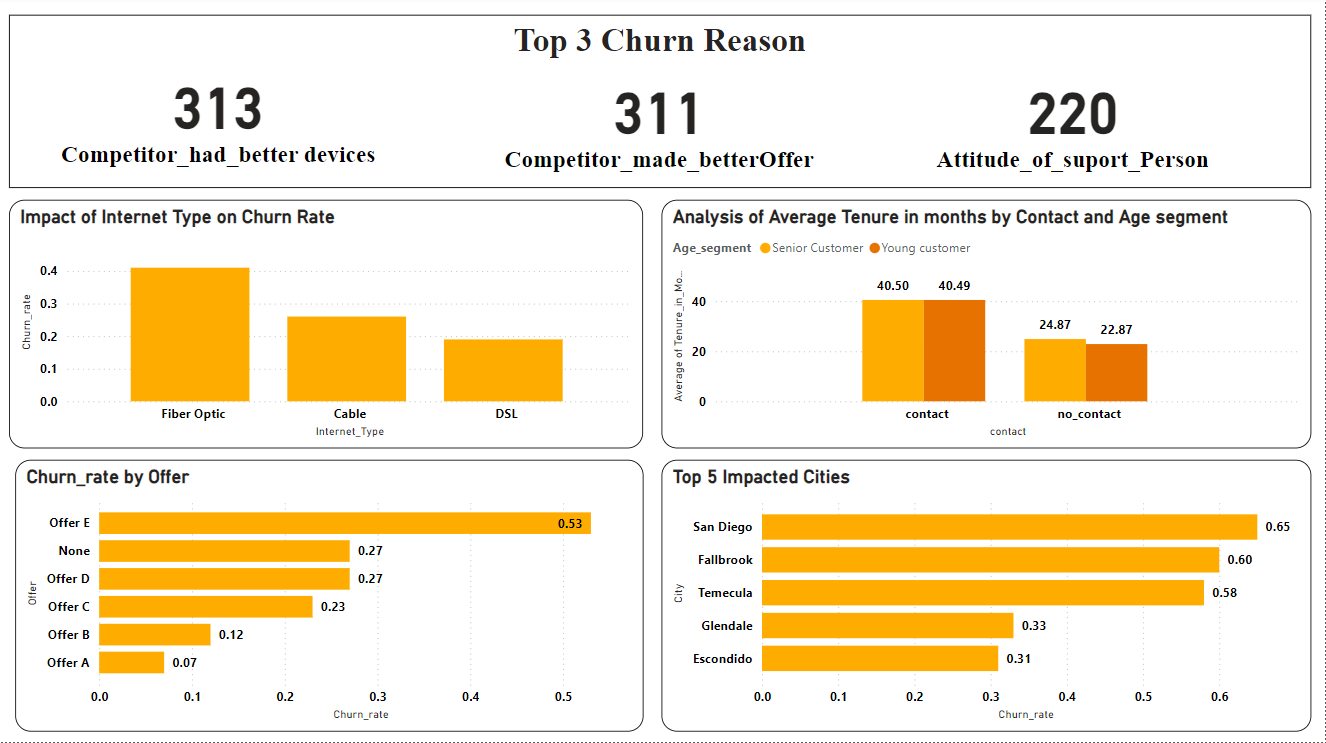

Layout of this report page (visuals, bound fields, positions):
{"tool":"powerbi","page":{"name":"Churn Analysis","canvas":[1280,720],"ordinal":1},"visuals":[{"type":"textbox","box":[9.6,17.8,1257,167.4],"z":0},{"type":"card","fields":{"Values":["My_Measures.Competitor_had_better devices"]},"box":[31.6,52.1,360.9,124.9],"z":1},{"type":"card","fields":{"Values":["My_Measures.Competitor_made_betterOffer"]},"box":[440.5,60.4,393.8,116.6],"z":2},{"type":"card","fields":{"Values":["My_Measures.Attitude_of_suport_Person"]},"box":[834.3,60.4,403.4,116.6],"z":3},{"type":"clusteredBarChart","title":"Top 5 Impacted Cities","fields":{"Category":["telecom_customer_churn.City"],"Y":["My_Measures.rate"]},"box":[639.5,447.3,627.1,262.1],"z":4},{"type":"barChart","fields":{"Category":["telecom_customer_churn.Offer"],"Y":["My_Measures.rate"]},"box":[15.1,447.3,606.5,262.1],"z":5},{"type":"columnChart","title":"Impact of Internet Type on Churn Rate","fields":{"Category":["telecom_customer_churn.Internet_Type"],"Y":["My_Measures.rate"]},"box":[9.6,196.2,612,240.1],"z":6},{"type":"clusteredColumnChart","title":"Analysis of Average Tenure in months by Contact and Age segment","fields":{"Category":["telecom_customer_churn.contact"],"Y":["Avg(telecom_customer_churn.Tenure_in_Months)"],"Series":["telecom_customer_churn.Age_segment"]},"box":[639.5,196.2,627.1,240.1],"z":7}]}

Visuals, with their boxes in screenshot pixels (x1, y1, x2, y2), scaled from the page's 1280x720 canvas onto the 1326x743 screenshot:
textbox: [10,18,1312,191]
card - My_Measures.Competitor_had_better devices: [33,54,407,183]
card - My_Measures.Competitor_made_betterOffer: [456,62,864,183]
card - My_Measures.Attitude_of_suport_Person: [864,62,1282,183]
"Top 5 Impacted Cities" clusteredBarChart: [662,462,1312,732]
barChart - telecom_customer_churn.Offer x My_Measures.rate: [16,462,644,732]
"Impact of Internet Type on Churn Rate" columnChart: [10,202,644,450]
"Analysis of Average Tenure in months by Contact and Age segment" clusteredColumnChart: [662,202,1312,450]
